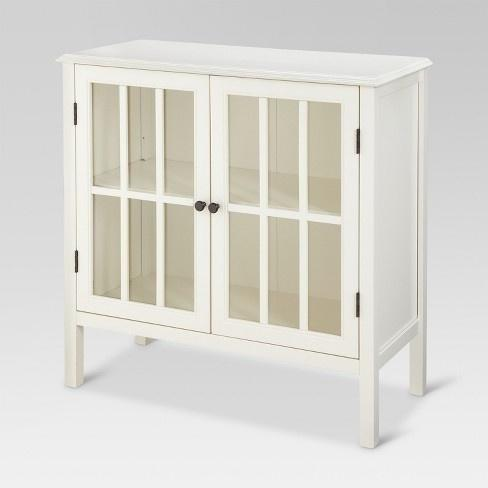cabinet_door: (215, 83, 361, 344), (79, 77, 213, 320)
handle: (193, 197, 208, 218), (210, 200, 221, 219)
